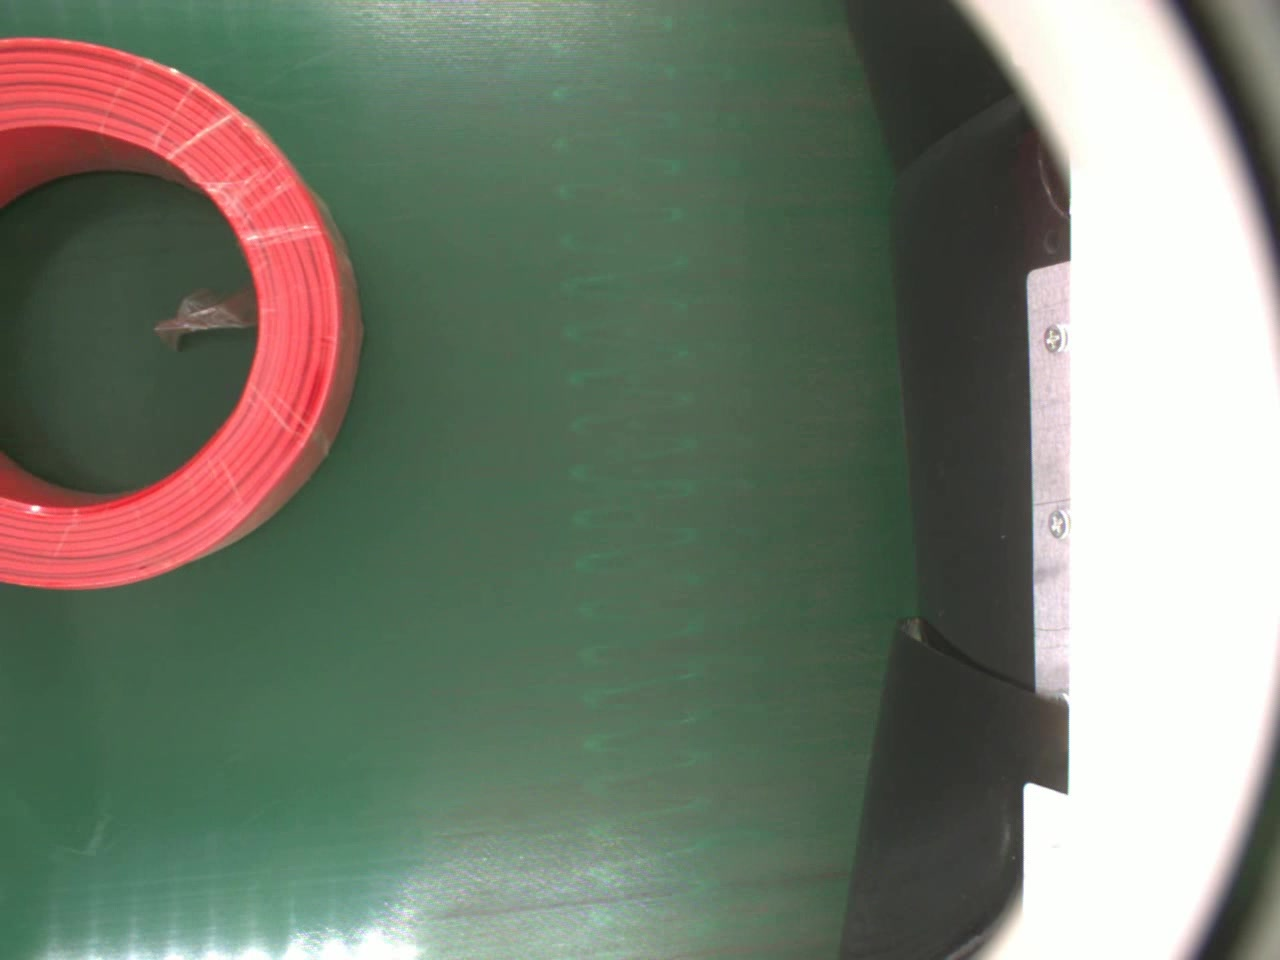red: (0, 36, 365, 592)
